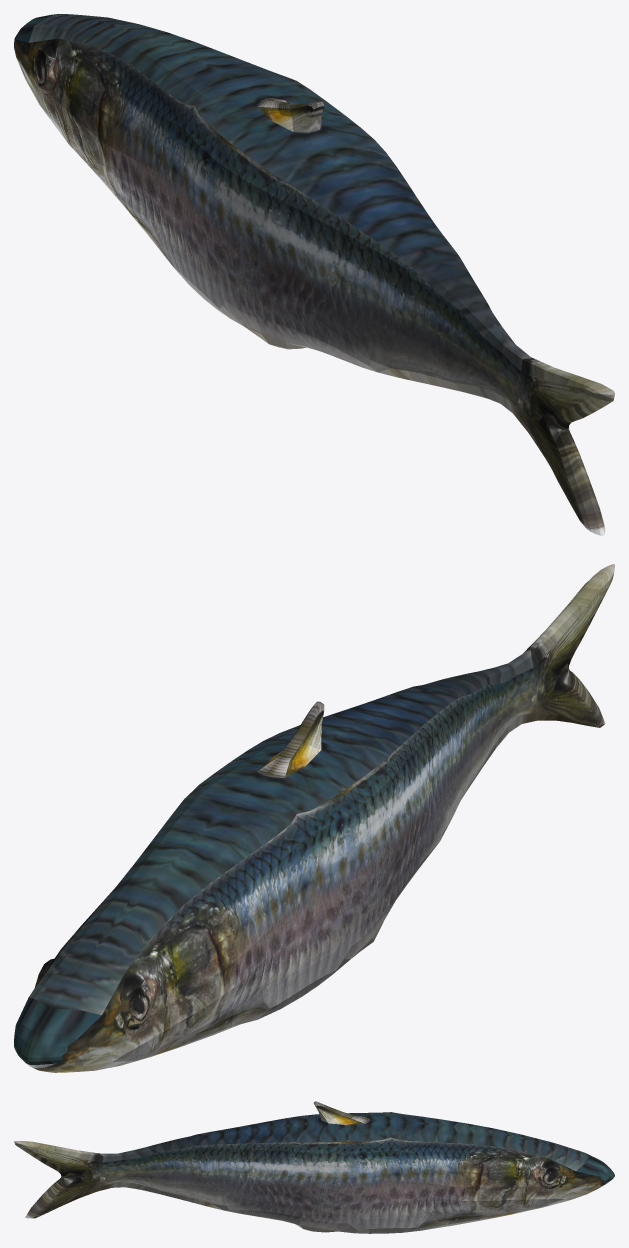
Rendered from sardine_static.glb.
The picture shows the model from 3 angles, top to bottom: view 1: azimuth 30°, elevation 25°; view 2: azimuth 150°, elevation 25°; view 3: azimuth 270°, elevation 25°; orthographic projection. The views are drawn at different scales.
Parts seen in each view (by area): view 1: sardine; view 2: sardine; view 3: sardine.
Part boxes in pixels (left/top/right/bottom): sardine: left=14, top=14, right=614, bottom=535; sardine: left=14, top=564, right=614, bottom=1072; sardine: left=14, top=1101, right=614, bottom=1233.
Bounding box in the file's own units: 0.2542 × 0.418 × 1.82.
1 material, 1 textured.
